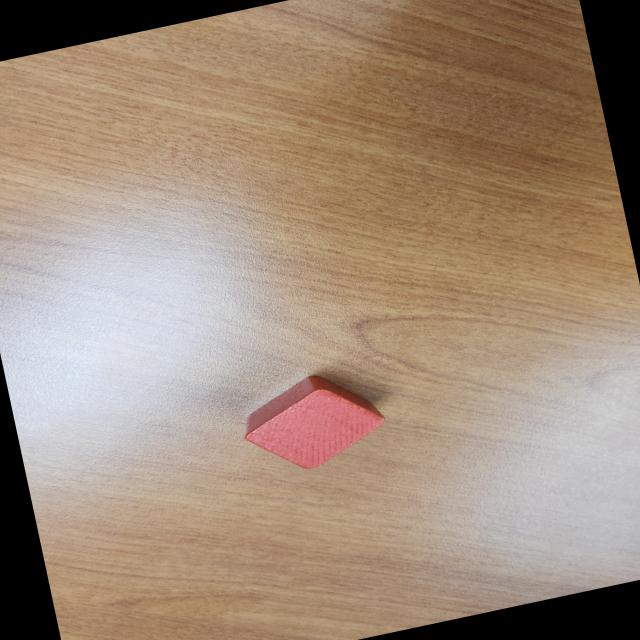red: (234, 361, 390, 483)
